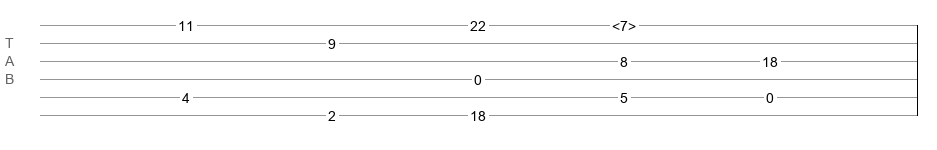0: (474, 72, 482, 82), (766, 90, 774, 100)
11: (178, 18, 194, 28)
18: (470, 108, 486, 118), (762, 54, 778, 64)
2: (328, 108, 336, 118)
22: (470, 18, 486, 28)
4: (182, 90, 190, 100)
5: (620, 90, 628, 100)
8: (620, 54, 628, 64)
9: (328, 36, 336, 46)
harmonic: (612, 18, 636, 28)
